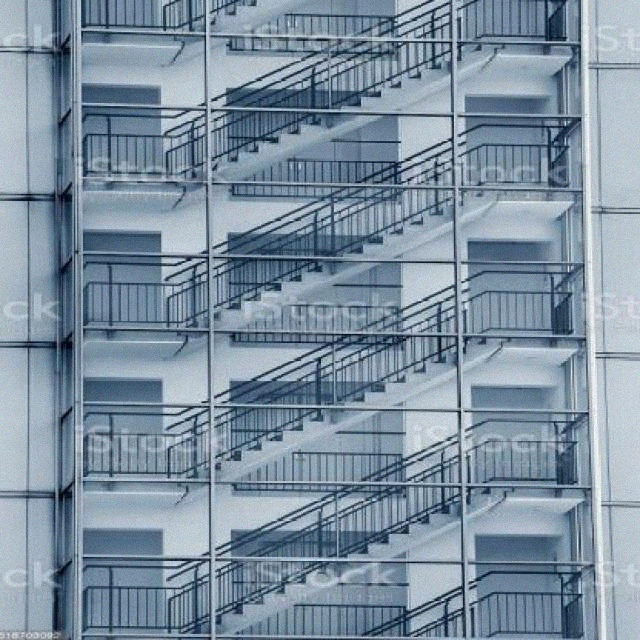stair: (77, 262, 569, 501)
